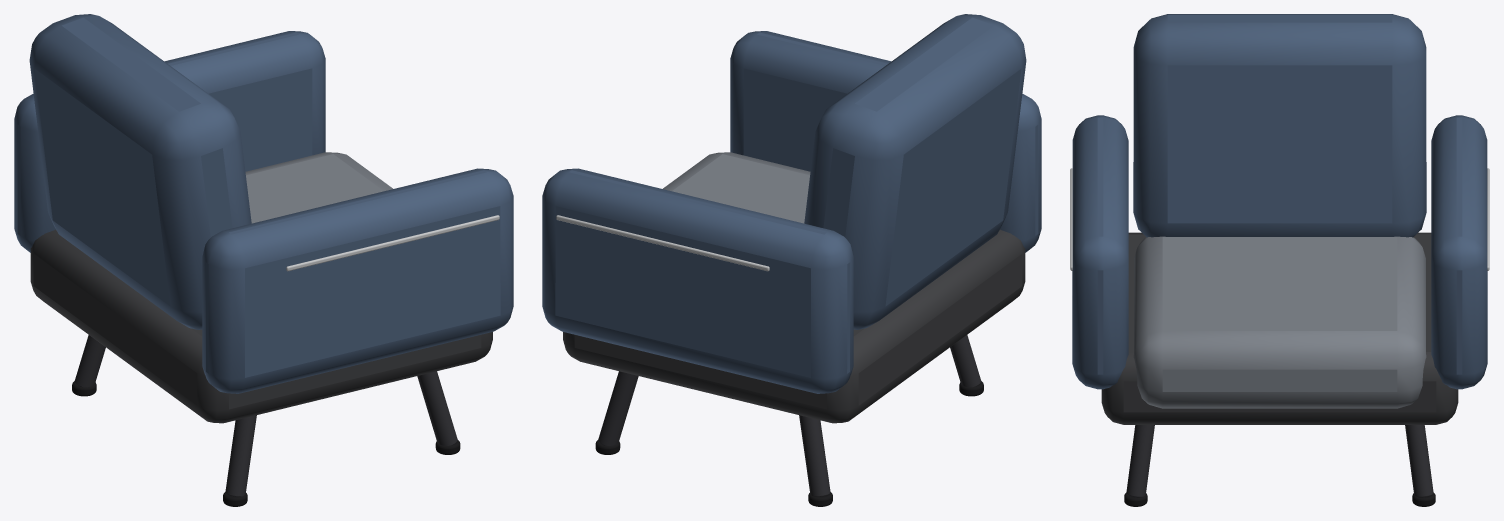
The model's file is sillon_individual.glb.
The picture shows the model from 3 angles, left to right: view 1: azimuth 30°, elevation 25°; view 2: azimuth 150°, elevation 25°; view 3: azimuth 270°, elevation 25°; orthographic projection. The views are drawn at different scales.
Parts seen in each view (by area): view 1: Sillón individual de talk show; view 2: Sillón individual de talk show; view 3: Sillón individual de talk show.
Part boxes in pixels (x1=…): Sillón individual de talk show: x1=14, y1=14, x2=513, y2=506; Sillón individual de talk show: x1=542, y1=14, x2=1041, y2=506; Sillón individual de talk show: x1=1070, y1=14, x2=1489, y2=506.
Bounding box in the file's own units: 0.7402 × 0.843 × 0.8584.
